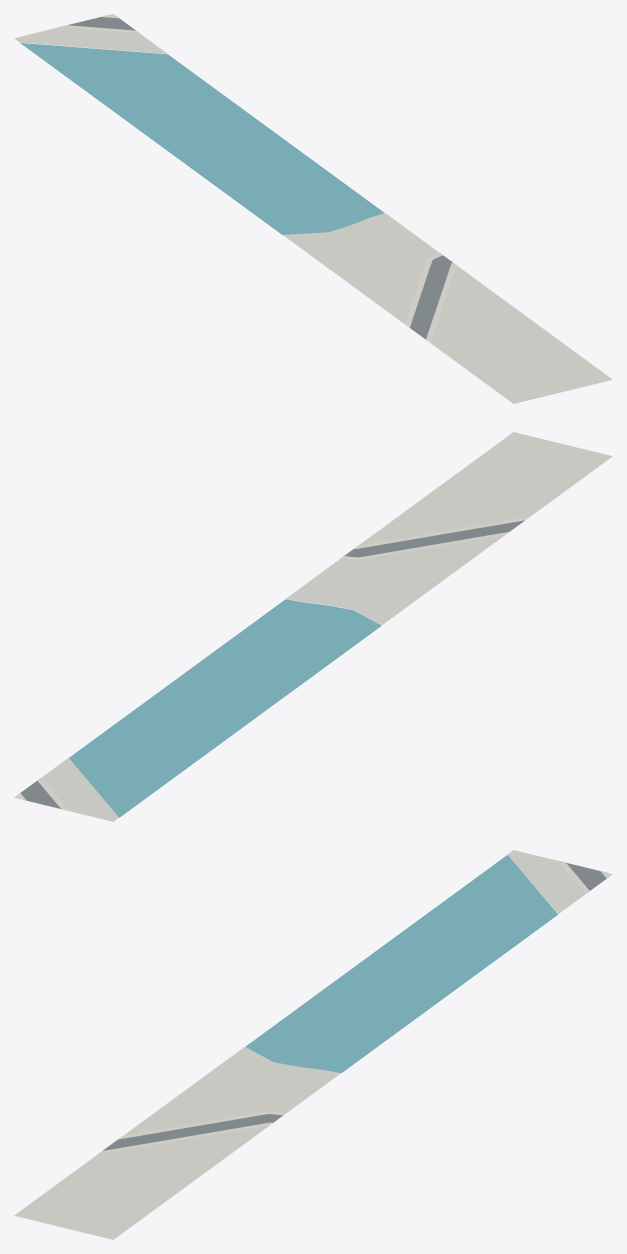
The picture shows the model from 3 angles, top to bottom: view 1: azimuth 30°, elevation 25°; view 2: azimuth 150°, elevation 25°; view 3: azimuth 330°, elevation 25°; orthographic projection.
Parts seen in each view (by area): view 1: city; view 2: city; view 3: city.
Boxes of the visible parts, x1=… form: city: x1=14, y1=14, x2=612, y2=403; city: x1=14, y1=432, x2=612, y2=821; city: x1=14, y1=850, x2=612, y2=1239.
Bounding box in the file's own units: 57.42 × 0.4 × 500.
